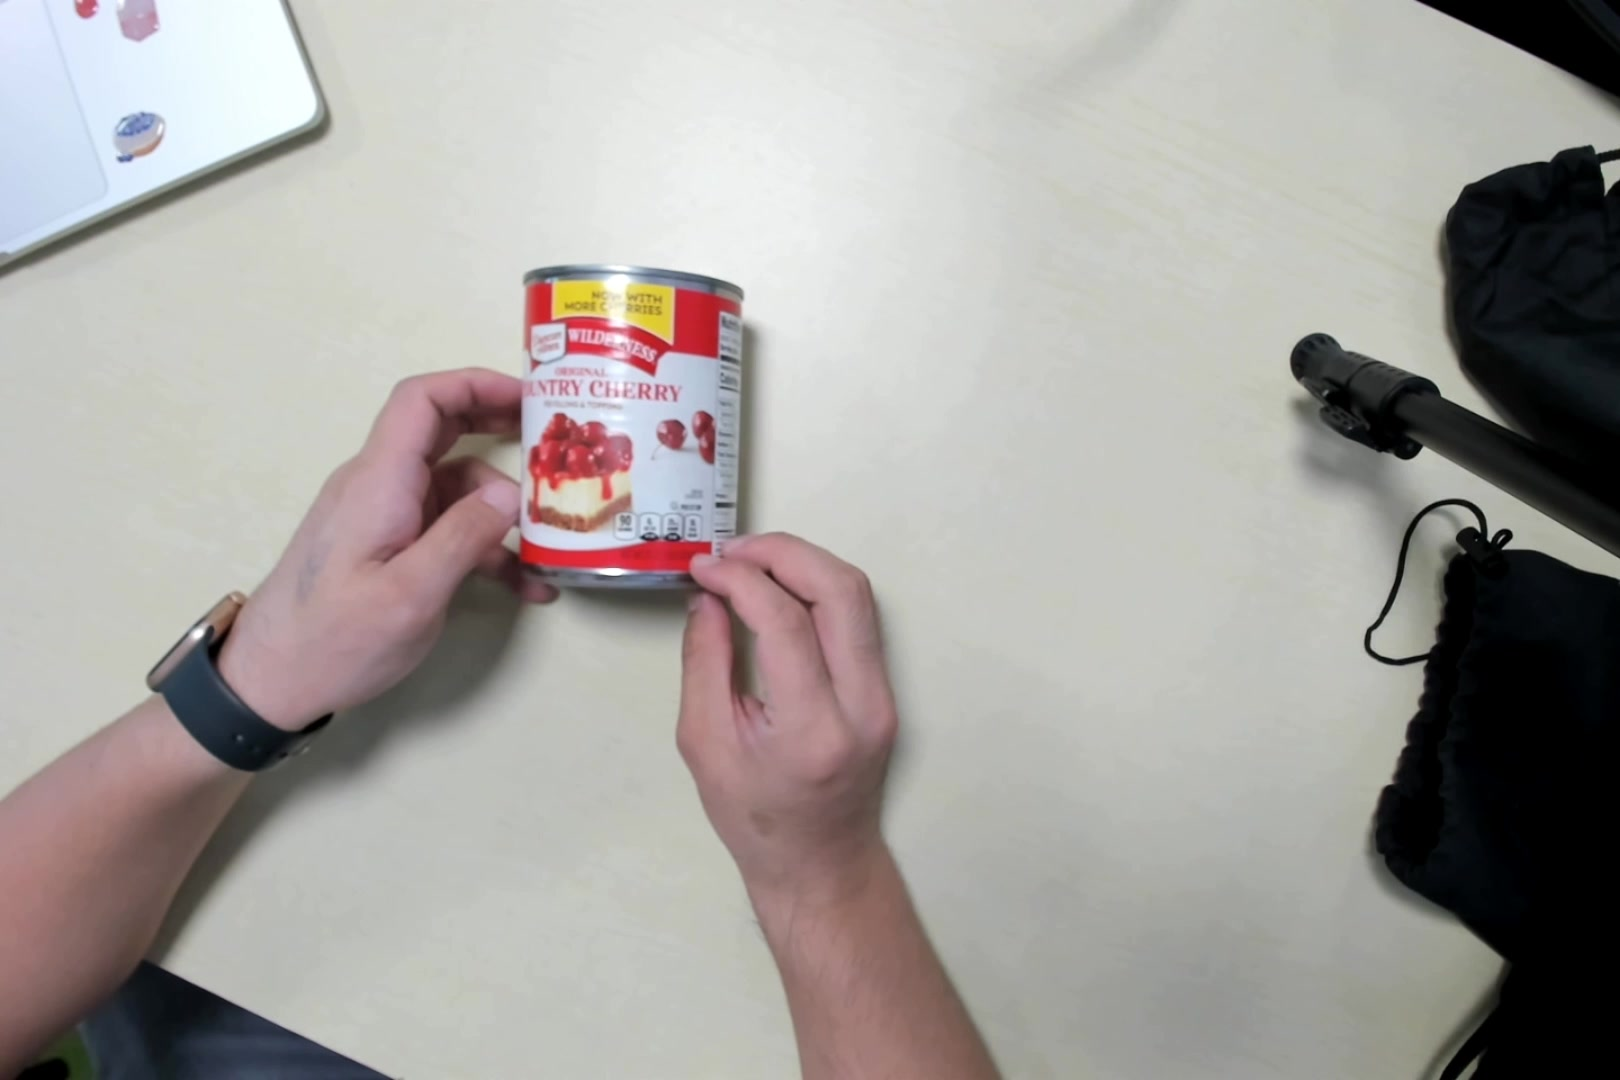OtherBakingNeeds_500-599g_NonHalal_NonHealthy: (515, 268, 745, 598)
